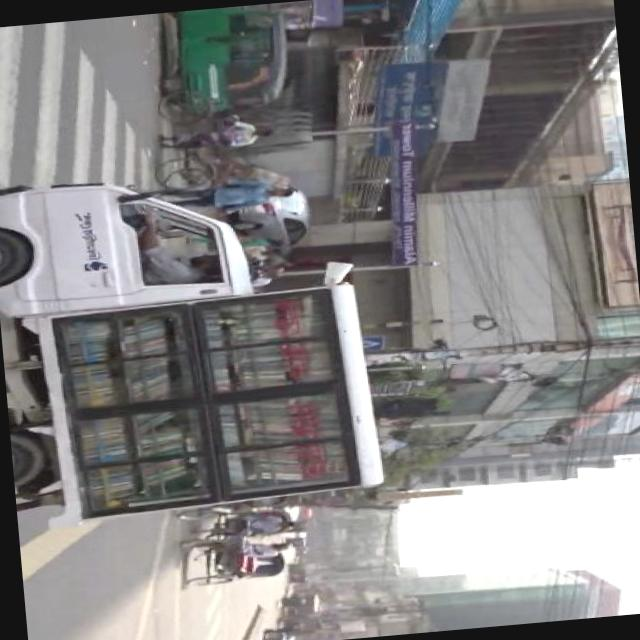car: (232, 166, 316, 260), (265, 629, 300, 640)
motorcycle: (150, 85, 294, 202), (157, 4, 290, 118), (182, 531, 288, 589), (180, 499, 294, 546)
truck: (0, 156, 391, 527)
